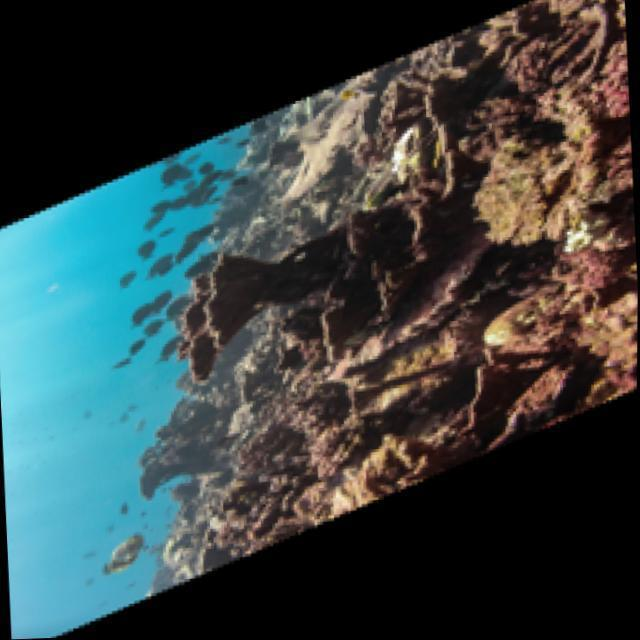Dead Coral: (381, 38, 640, 467), (150, 379, 395, 564), (140, 207, 359, 398)
